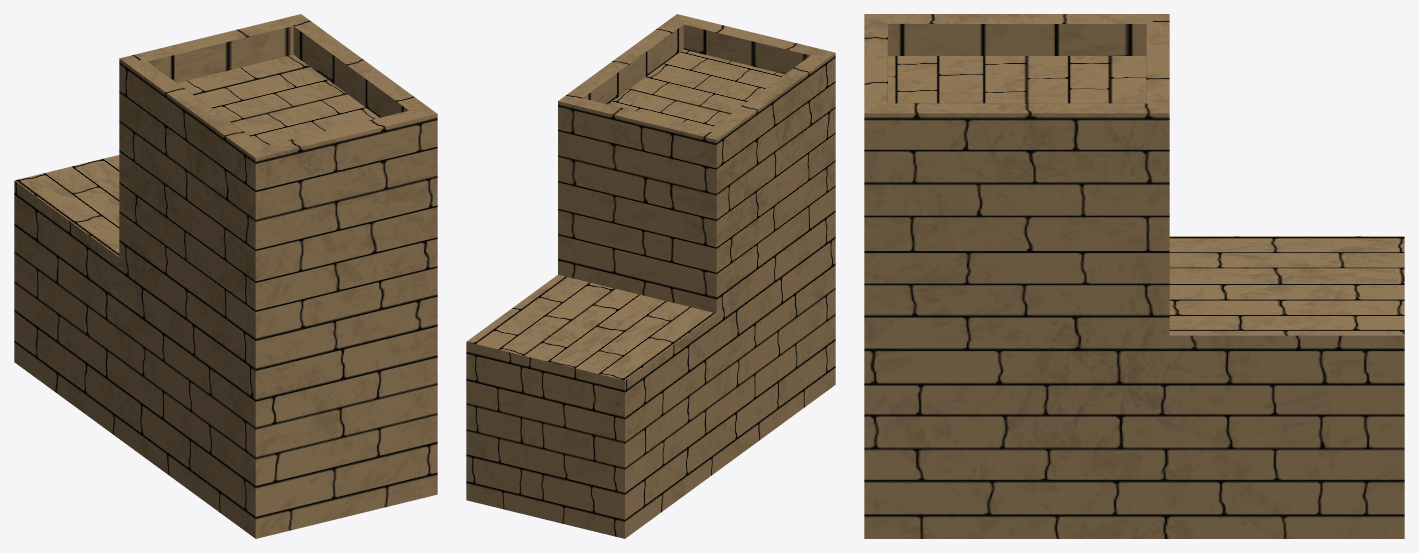
Rendered from Edificio3.fbx.
3 renders of one model, left to right at view 1: azimuth 30°, elevation 25°; view 2: azimuth 150°, elevation 25°; view 3: azimuth 270°, elevation 25°, orthographic. The views are drawn at different scales.
Parts seen in each view (by area): view 1: Box001; view 2: Box001; view 3: Box001.
Part boxes in pixels (x1,y1,x2,y2): Box001: [14, 14, 437, 538]; Box001: [466, 14, 835, 538]; Box001: [864, 14, 1404, 538].
Bounding box in the file's own units: 1 × 2 × 2.3.
1 material, 1 textured.
